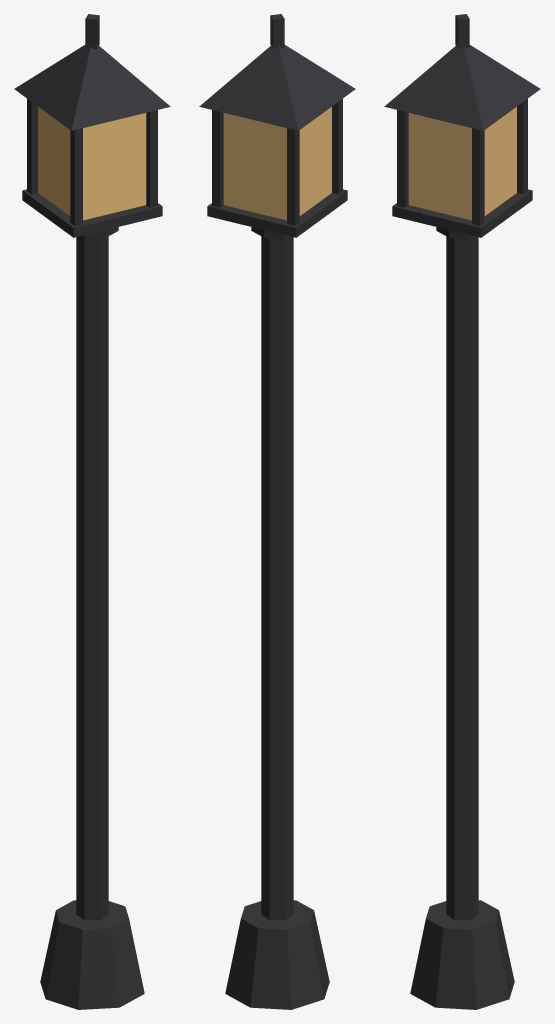
File: lamp_post.glb
3 views of the same model, side by side, from view 1: azimuth 30°, elevation 25°; view 2: azimuth 150°, elevation 25°; view 3: azimuth 330°, elevation 25° (orthographic).
Visible parts, largest first — view 1: lamp_post; view 2: lamp_post; view 3: lamp_post.
Boxes of the visible parts, box(x1,y1,x2,y2) form: lamp_post: box(14, 14, 170, 1009); lamp_post: box(199, 14, 355, 1009); lamp_post: box(384, 14, 540, 1009).
Size of the model in its own units: 0.4243 by 3.96 by 0.4243.
